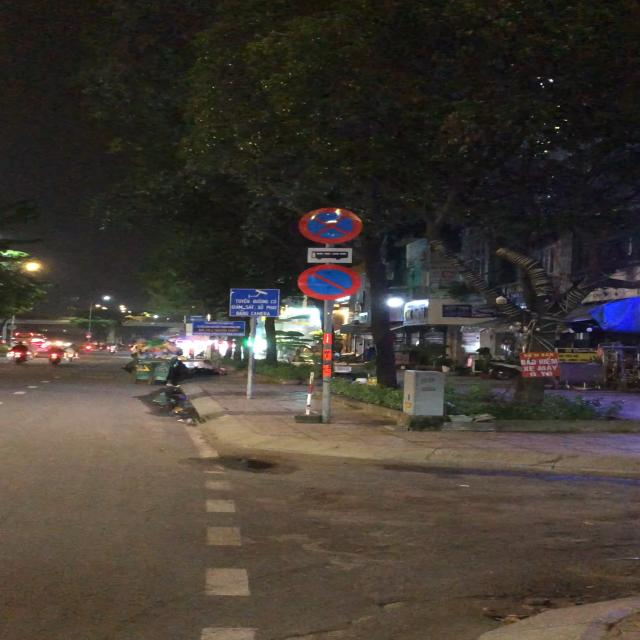Bien bao cam do xe: (294, 261, 366, 304)
Bien bao cam dung xe va do xe: (294, 205, 364, 246)
